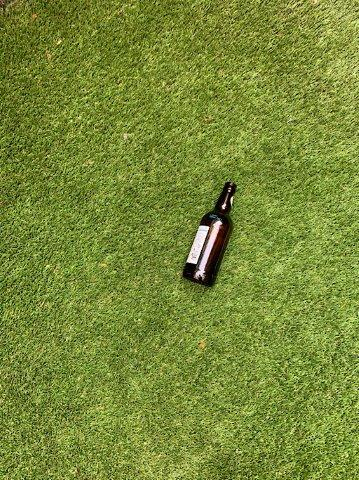botolkaca: (184, 181, 239, 287)
